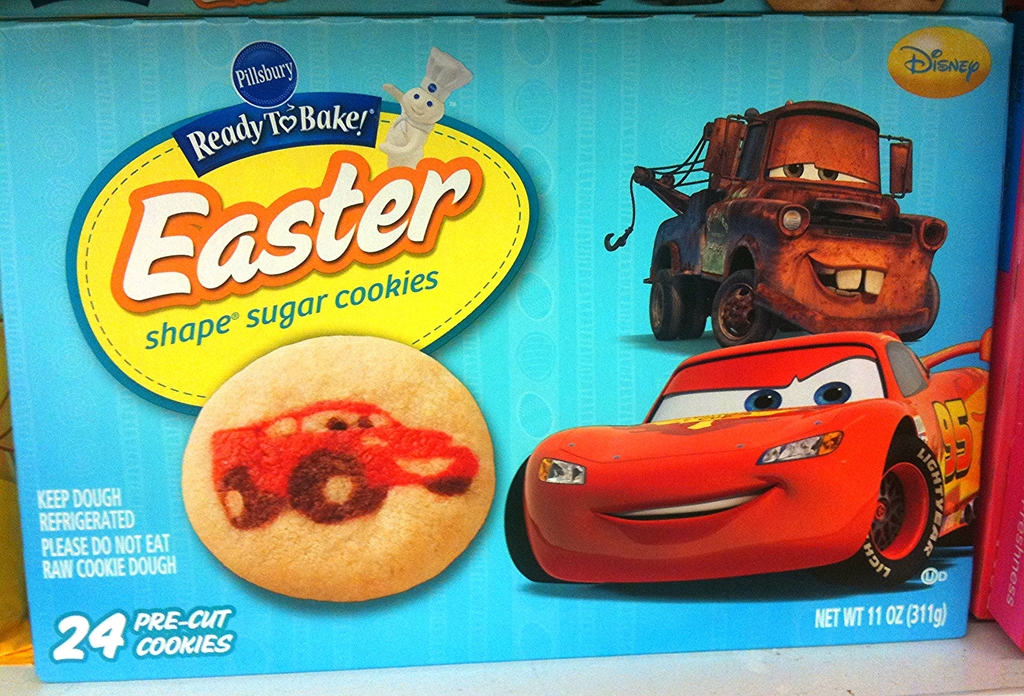Car: (501, 331, 993, 590)
